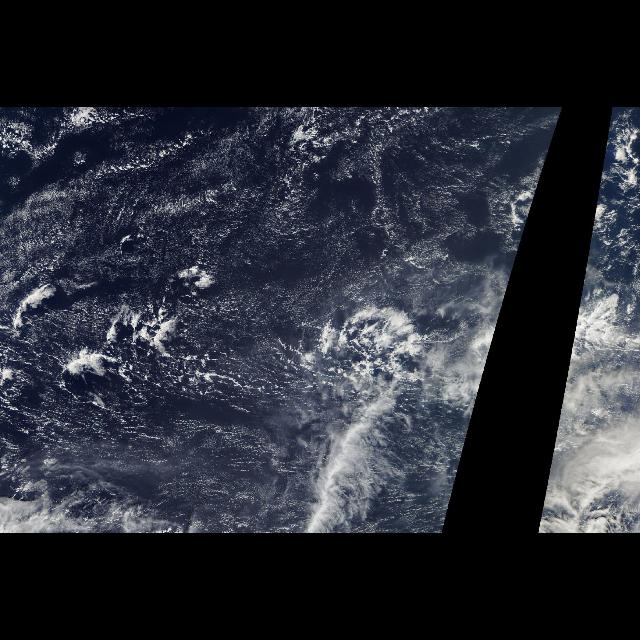Fish: (21, 286, 467, 398)
Sugar: (0, 157, 490, 300), (61, 430, 299, 526)
